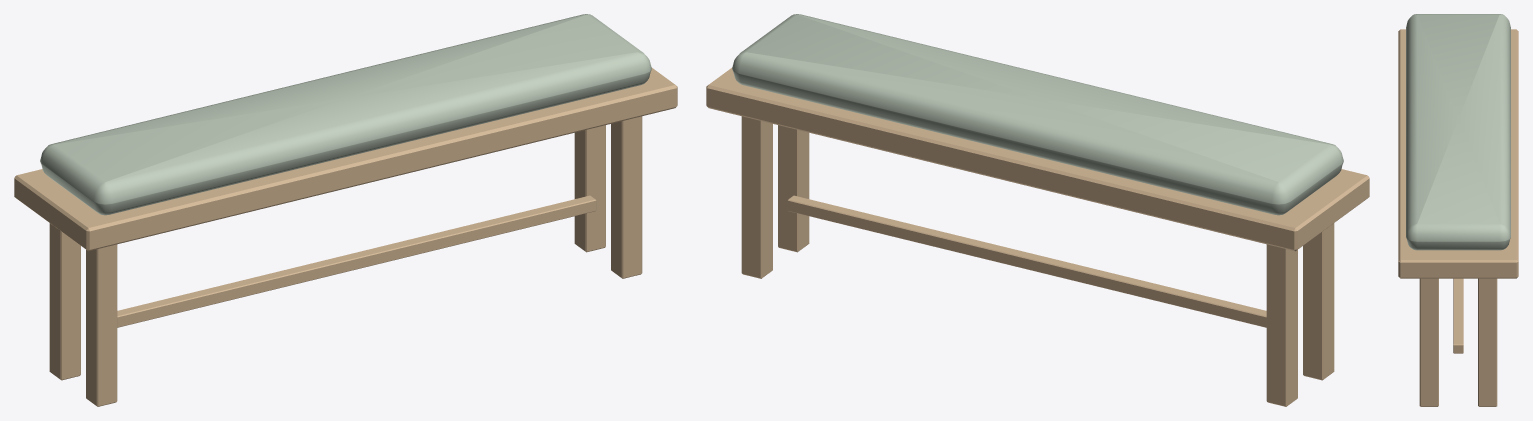
The model's file is bedroom-and-living-room-furniture-dining-bench-a2616142.glb.
3 views of the same model, side by side, from view 1: azimuth 30°, elevation 25°; view 2: azimuth 150°, elevation 25°; view 3: azimuth 270°, elevation 25° (orthographic). The views are drawn at different scales.
Visible parts, largest first — view 1: dining-bench; view 2: dining-bench; view 3: dining-bench.
Boxes of the visible parts, x1=… form: dining-bench: x1=14, y1=14, x2=677, y2=406; dining-bench: x1=706, y1=14, x2=1369, y2=406; dining-bench: x1=1398, y1=14, x2=1518, y2=406.
Bounding box in the file's own units: 1.6 × 0.582 × 0.35.
